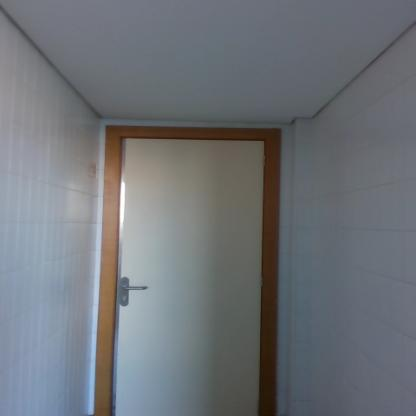closed: (88, 110, 303, 410)
